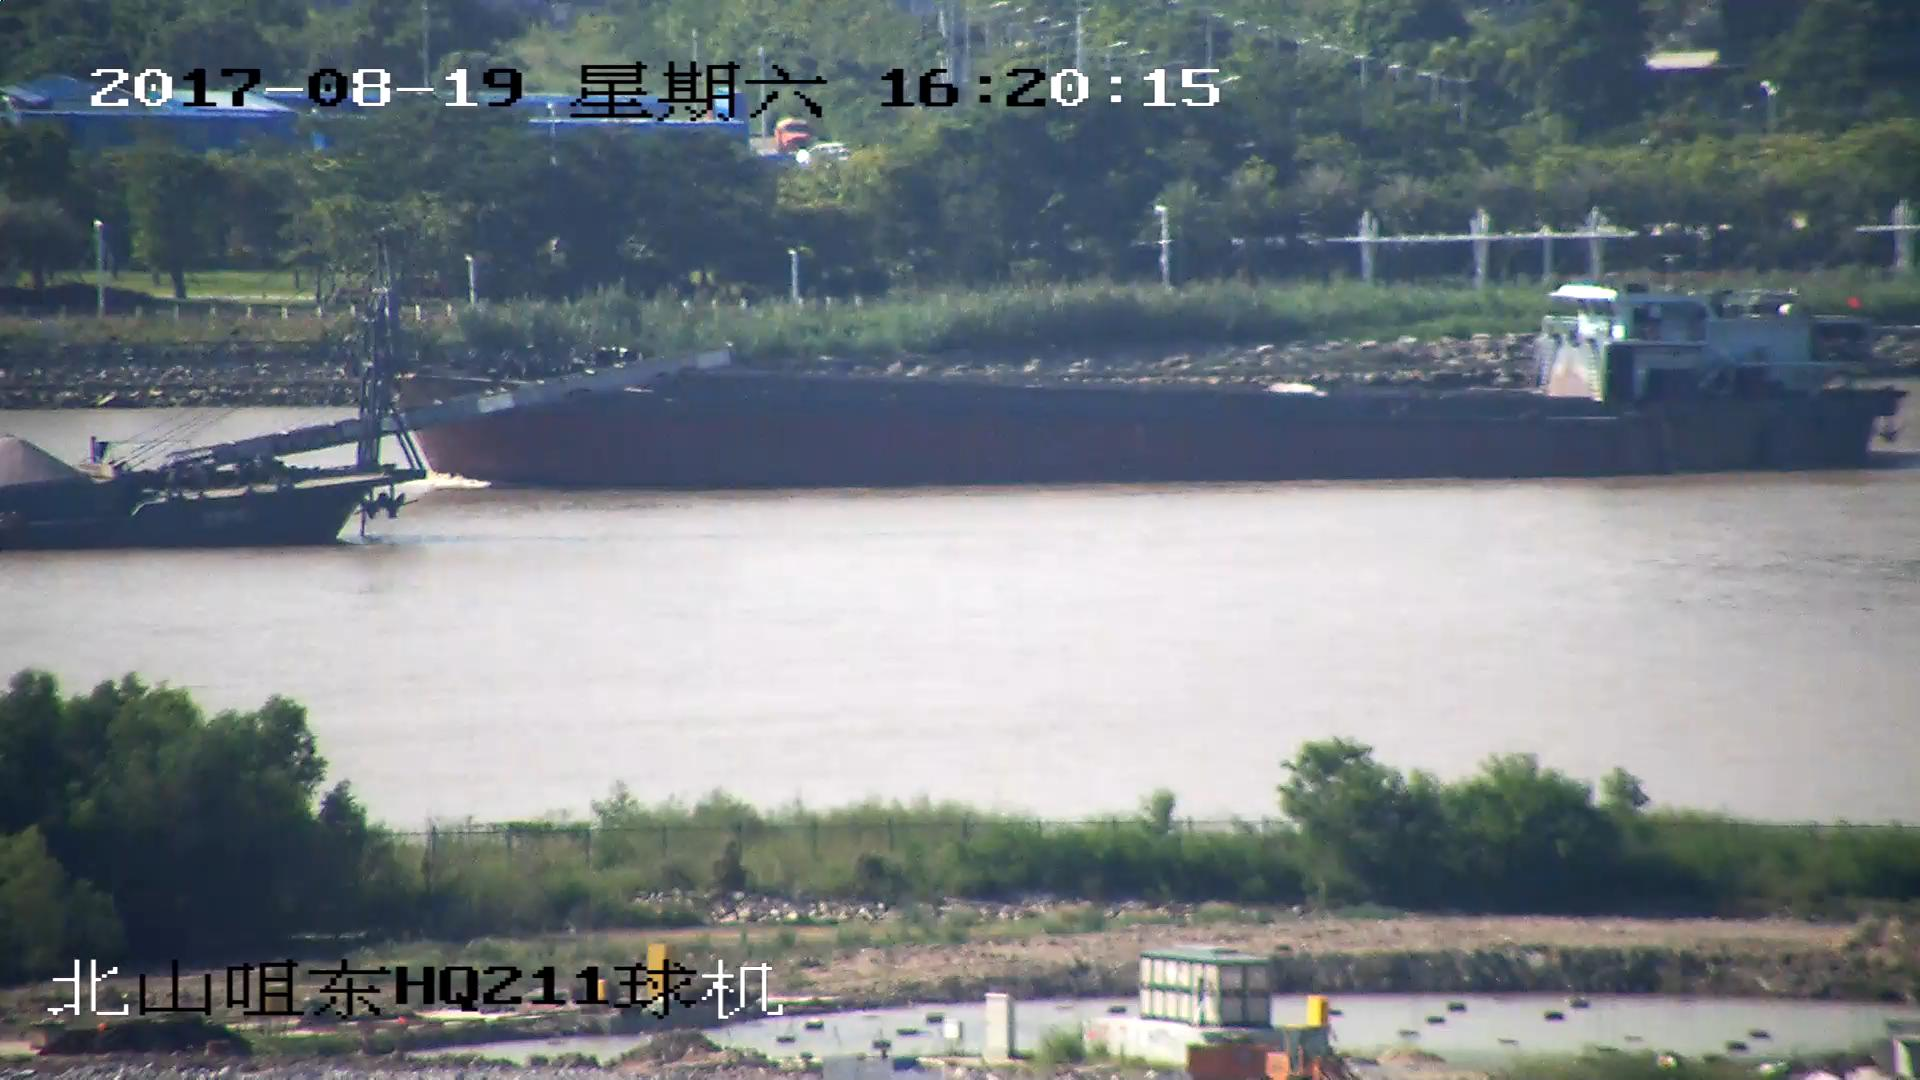bulk cargo carrier: (174, 237, 1907, 484)
ore carrier: (1, 316, 725, 555)
